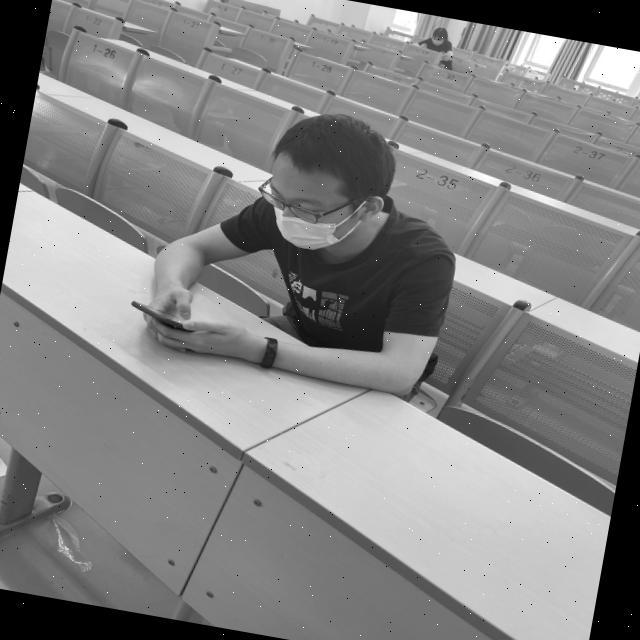phone: (128, 84, 477, 399)
